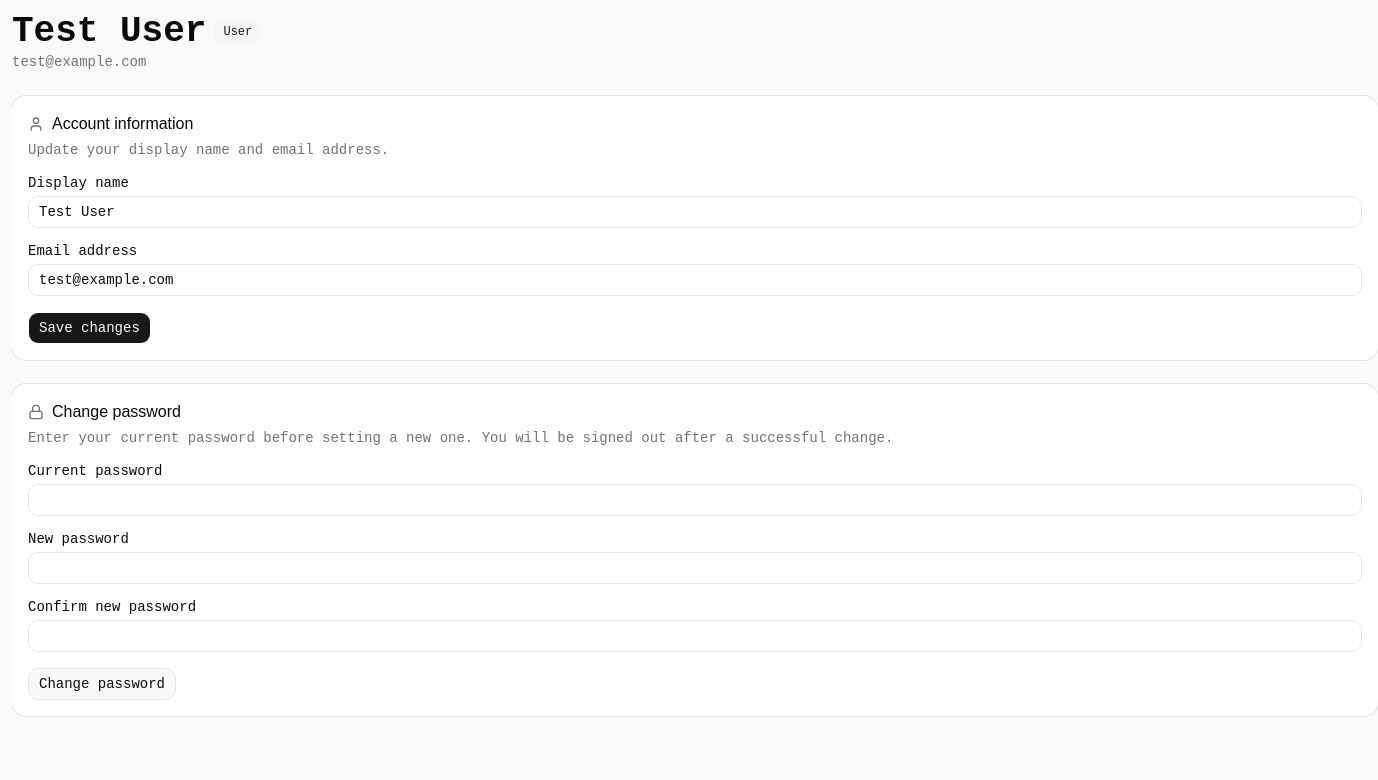
Scenario: SettingsProfile - Password Change Flow › shows error when new passwords do not match
Expected: the heading "Test User" is shown, [12,12,206,52]
Type "oldpass123" into the password field labelled "Current password" at (695, 500), box [28,484,1362,516]
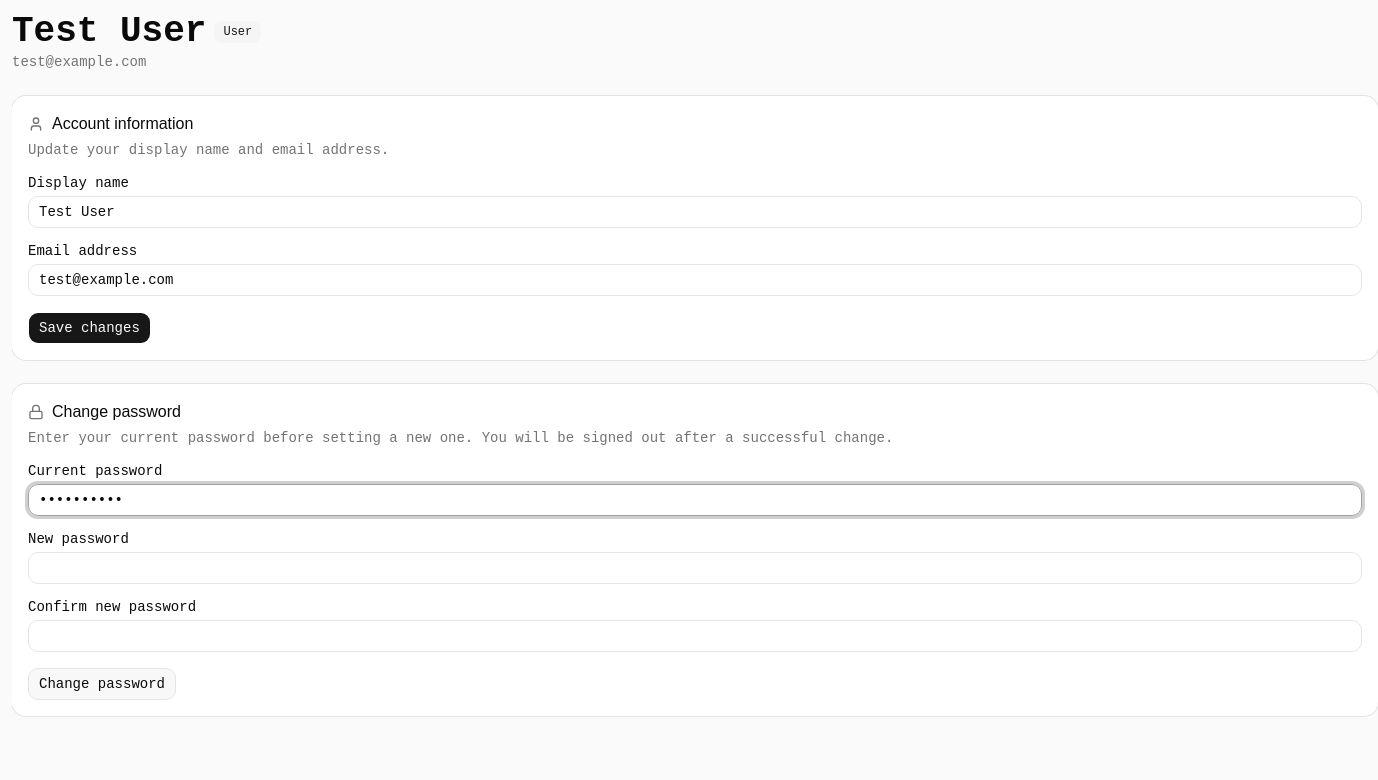
Type "newpass123" into the password field labelled "New password" at (695, 568), box [28,552,1362,584]
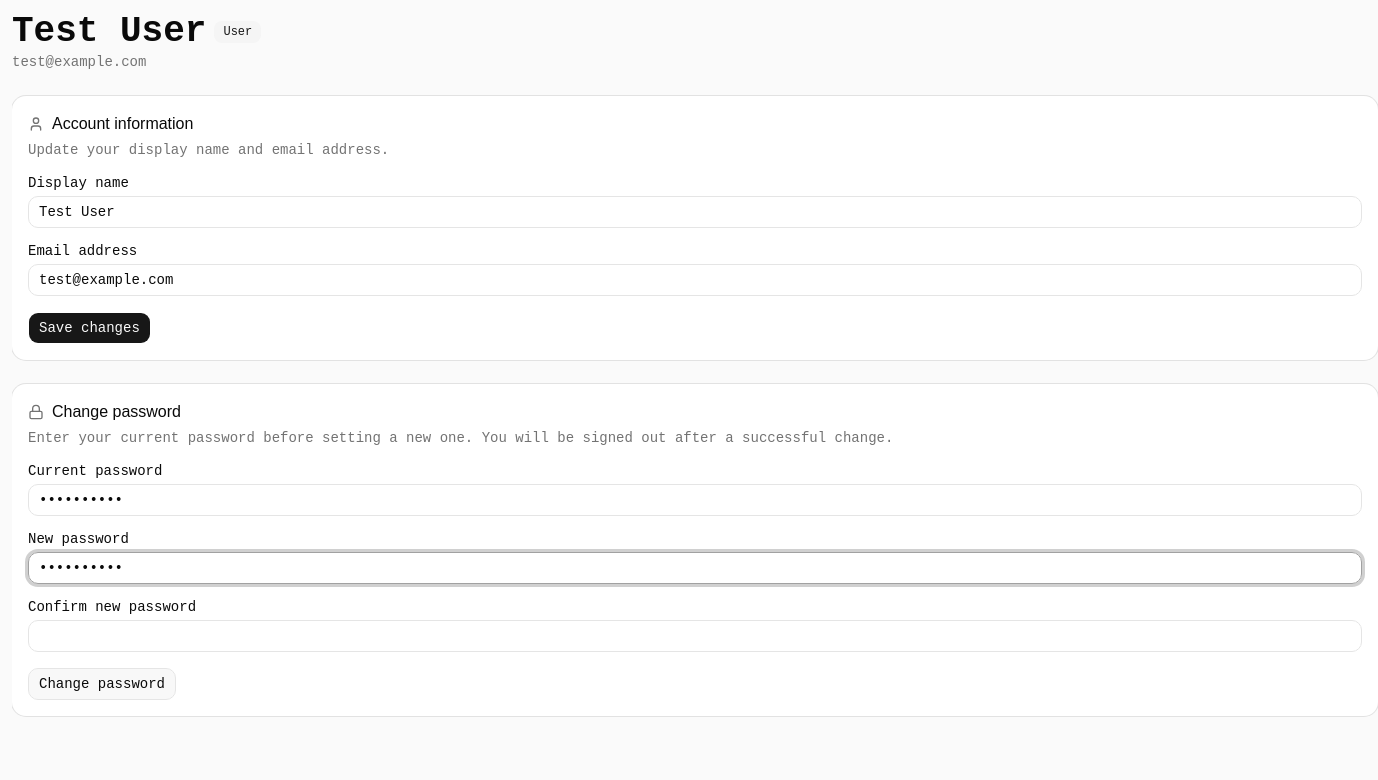
Type "different123" into the password field labelled "Confirm new password" at (695, 636), box [28,620,1362,652]
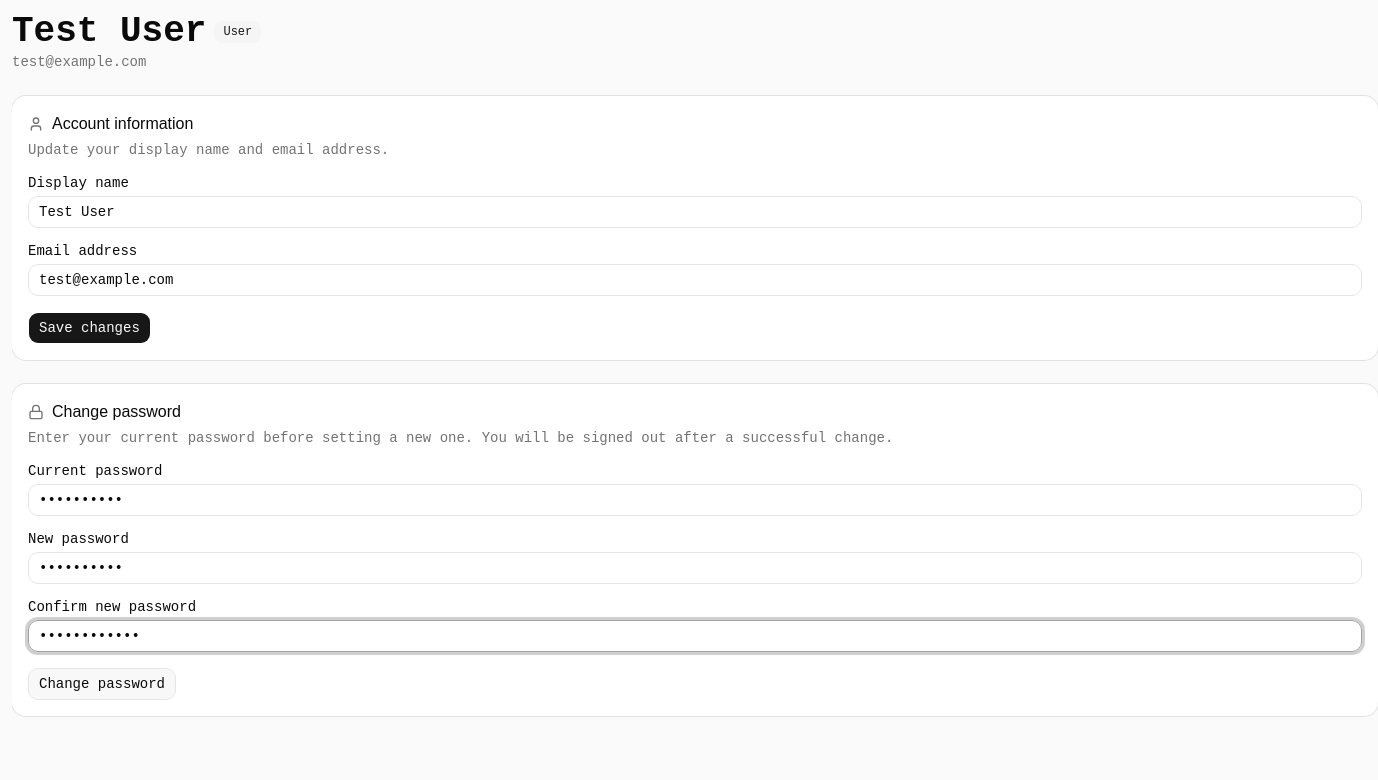
Click the button "Change password" at (102, 684), box [28,668,176,700]
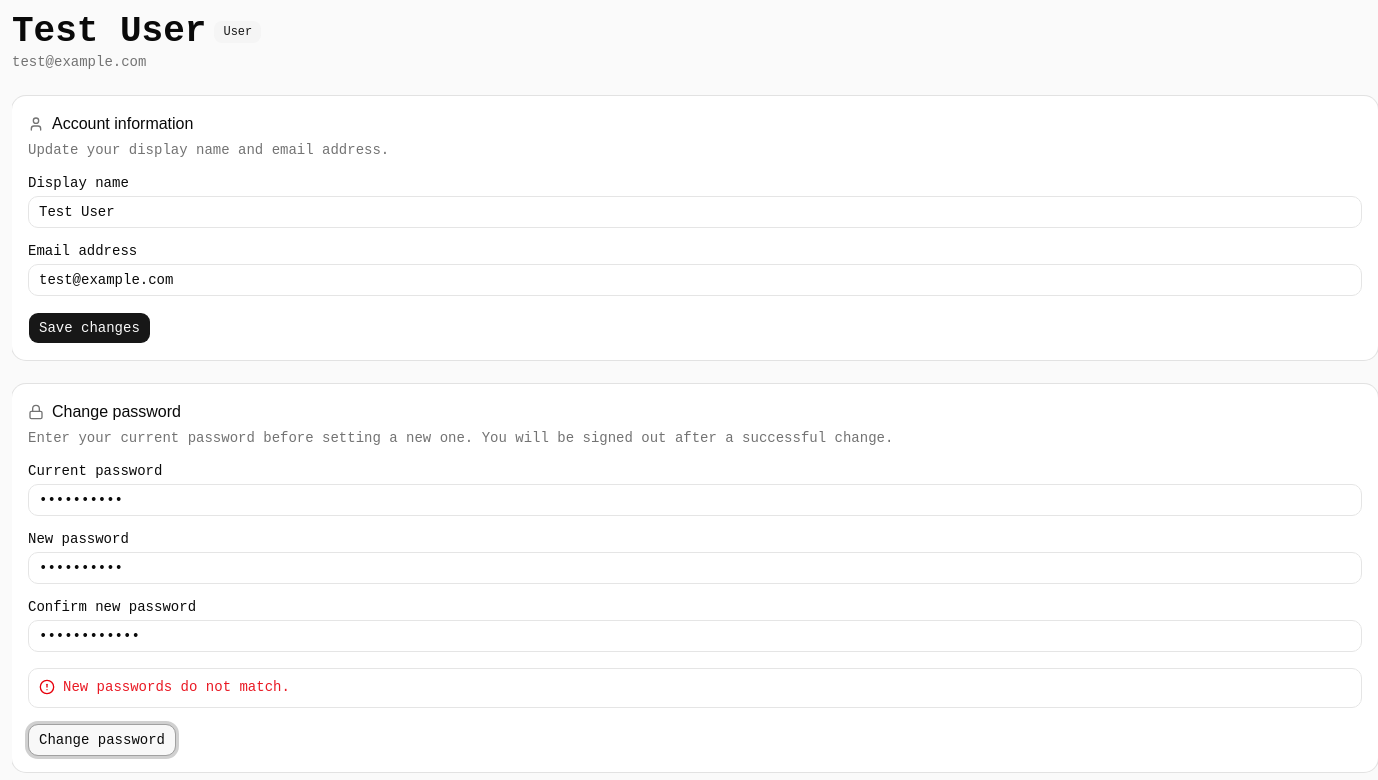
Expected: the text "New passwords do not match." is shown, [63,679,290,695]
